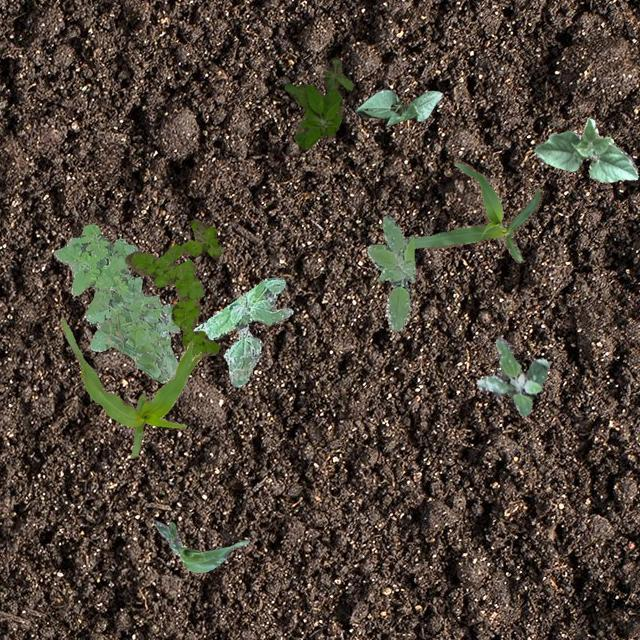crop: (59, 316, 200, 456), (412, 158, 542, 262), (532, 116, 638, 180), (152, 520, 248, 572), (354, 88, 442, 125)
weed: (53, 225, 178, 382), (124, 218, 220, 356), (192, 276, 292, 386), (284, 54, 352, 148), (476, 336, 548, 414), (366, 213, 414, 329)
